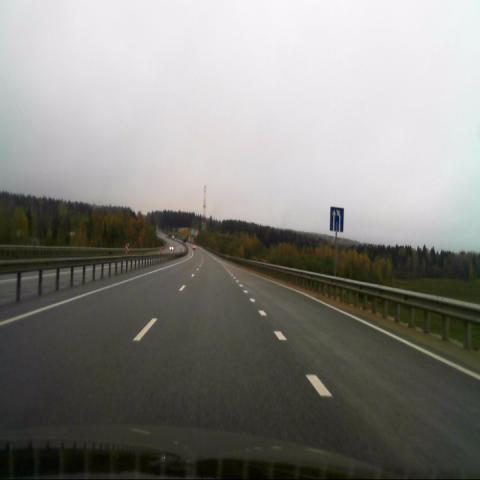5_15_5: (330, 206, 343, 232)
